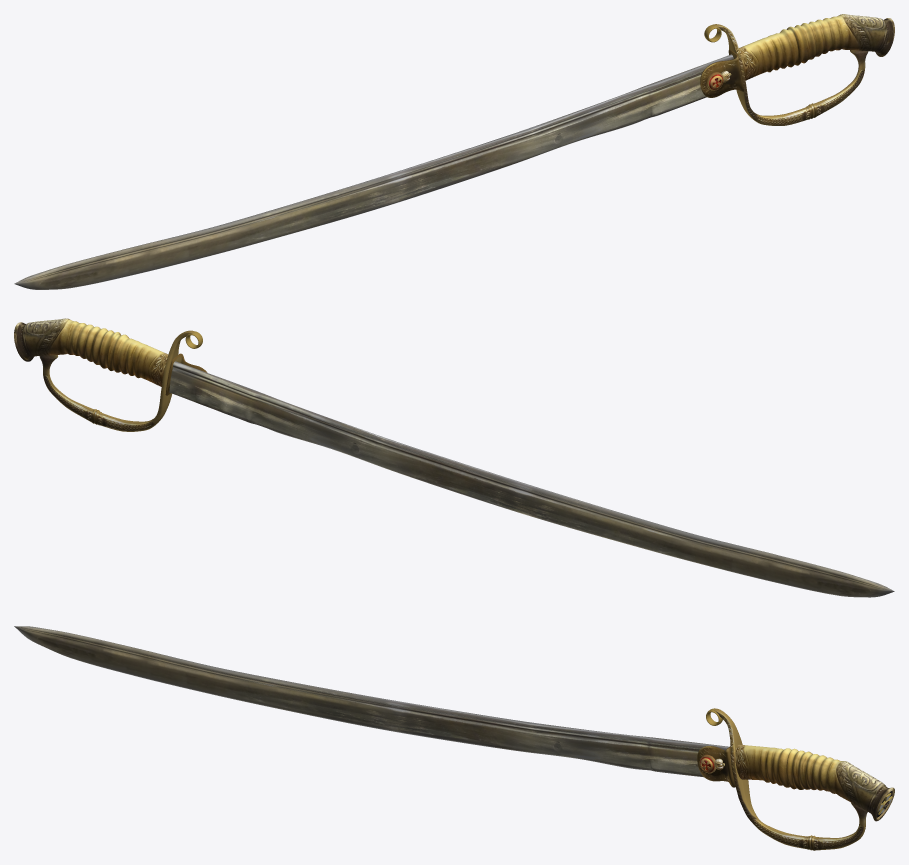
The model's file is шашка 1000.FBX.
3 views of the same model, one above another, from view 1: azimuth 30°, elevation 25°; view 2: azimuth 150°, elevation 25°; view 3: azimuth 330°, elevation 25° (orthographic).
Parts seen in each view (by area): view 1: ____-NURBS, ____-2, ____-1, ____-; view 2: ____-NURBS, ____-2, ____-1; view 3: ____-NURBS, ____-2, ____-1, ____-.
Part boxes in pixels (left/top/right/bottom): ____-NURBS: left=14, top=54, right=733, bottom=289; ____-2: left=739, top=14, right=894, bottom=80; ____-1: left=712, top=24, right=868, bottom=125; ____-: left=700, top=49, right=743, bottom=97; ____-NURBS: left=169, top=361, right=894, bottom=597; ____-2: left=14, top=318, right=168, bottom=386; ____-1: left=39, top=330, right=195, bottom=431; ____-NURBS: left=14, top=626, right=729, bottom=777; ____-2: left=735, top=744, right=894, bottom=821; ____-1: left=713, top=708, right=867, bottom=850; ____-: left=697, top=746, right=735, bottom=787.
Size of the model in its own units: 206 by 26.22 by 6.43.
